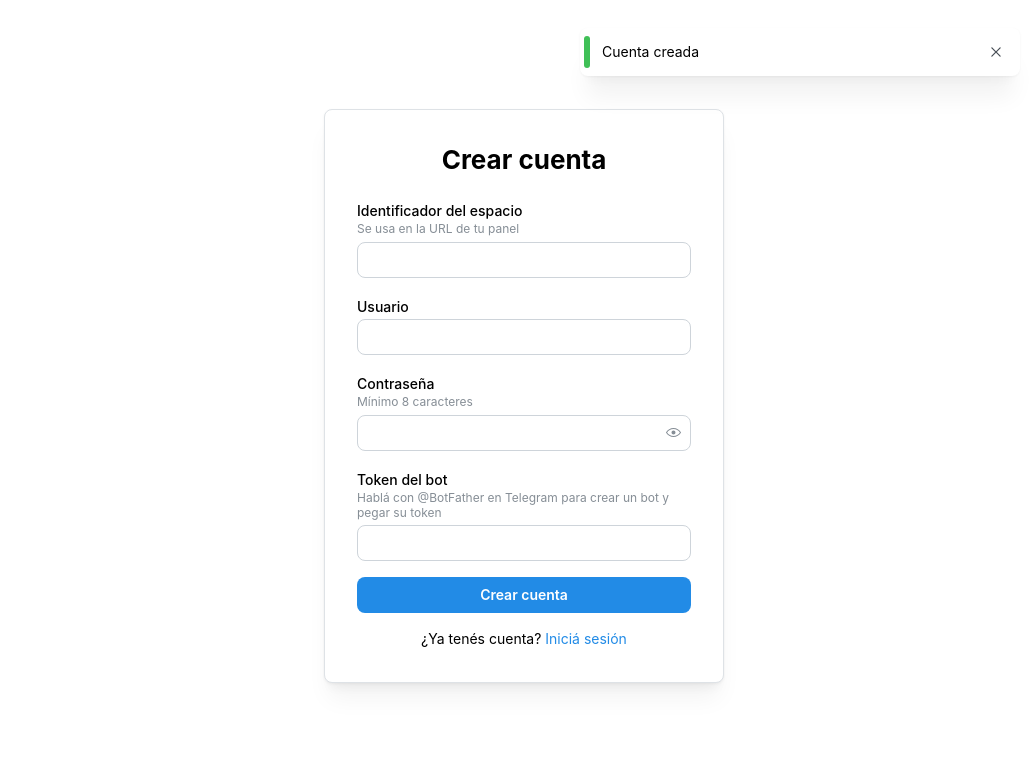
Test: SignupPage › auto-login fallido degrada a /login?username=&created=1
In the field labelled "Identificador del espacio": (524, 260) x1=357 y1=242 x2=691 y2=278, type "acme"
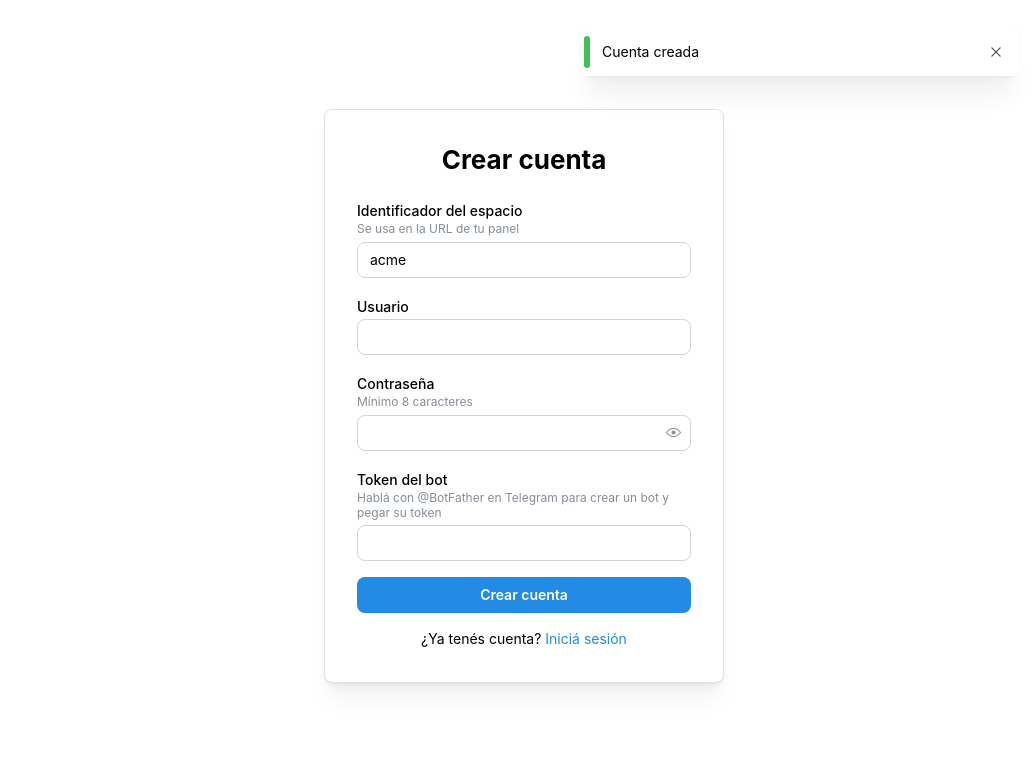
In the field labelled "Usuario": (524, 336) x1=357 y1=318 x2=691 y2=354, type "juan"
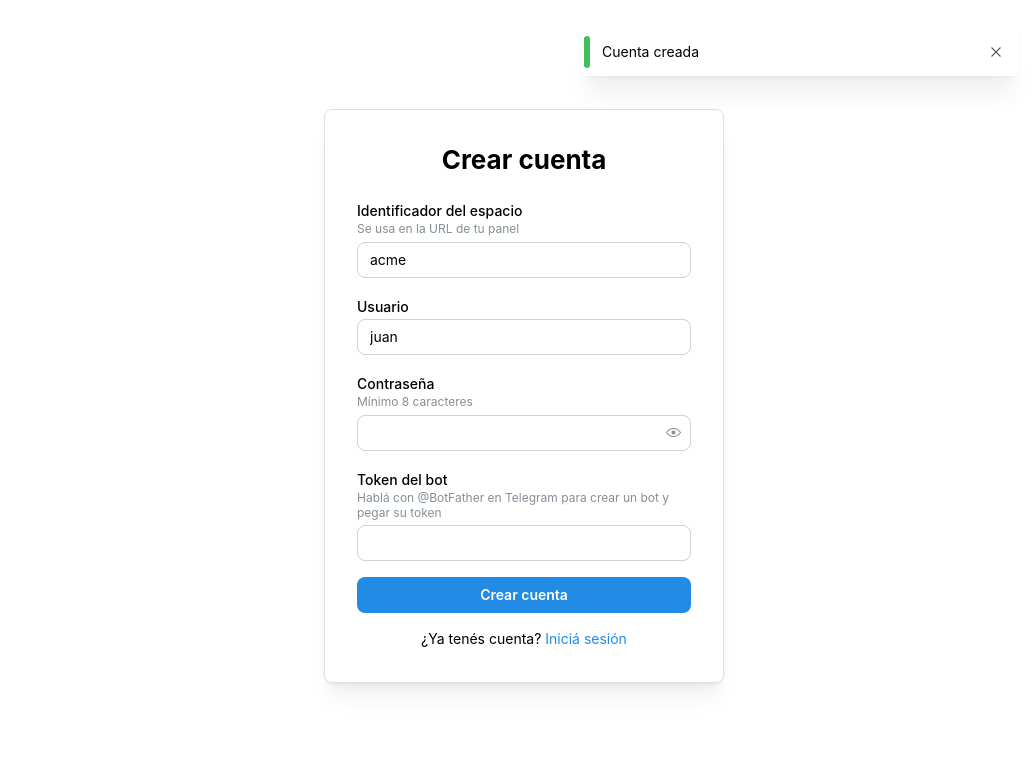
In the password field labelled "Contraseña": (524, 433) x1=358 y1=416 x2=690 y2=450, type "secreto123"
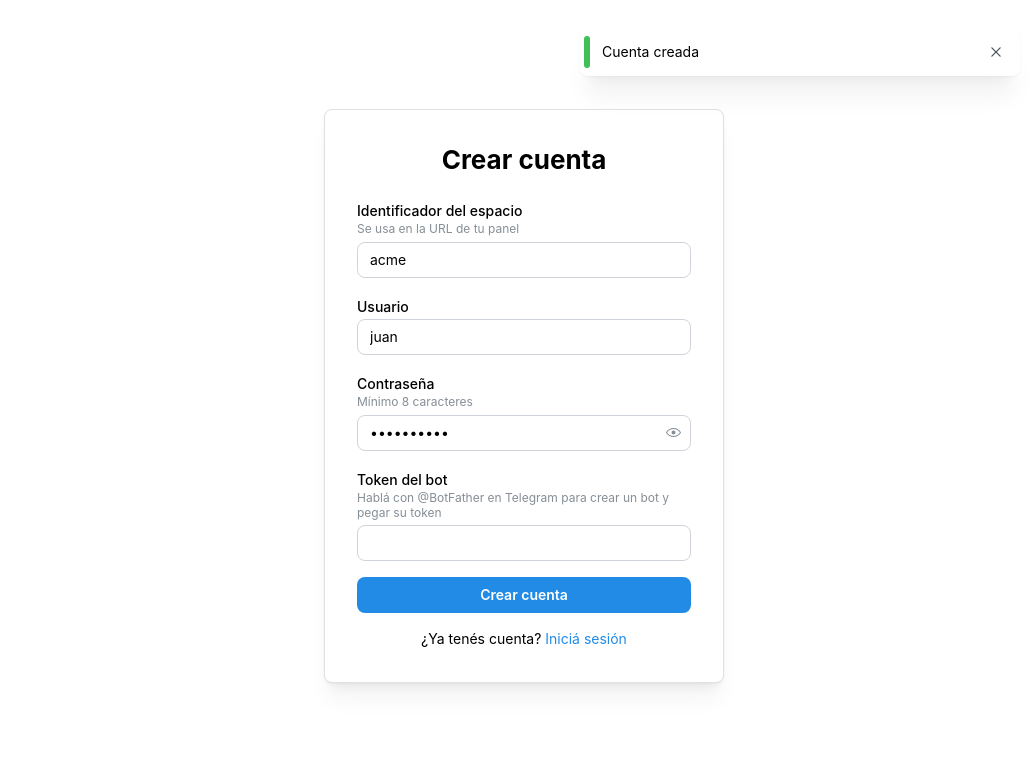
In the field labelled "Token del bot": (524, 543) x1=357 y1=525 x2=691 y2=561, type "SIGNUP_BOT_TOKEN_EXAMPLE"
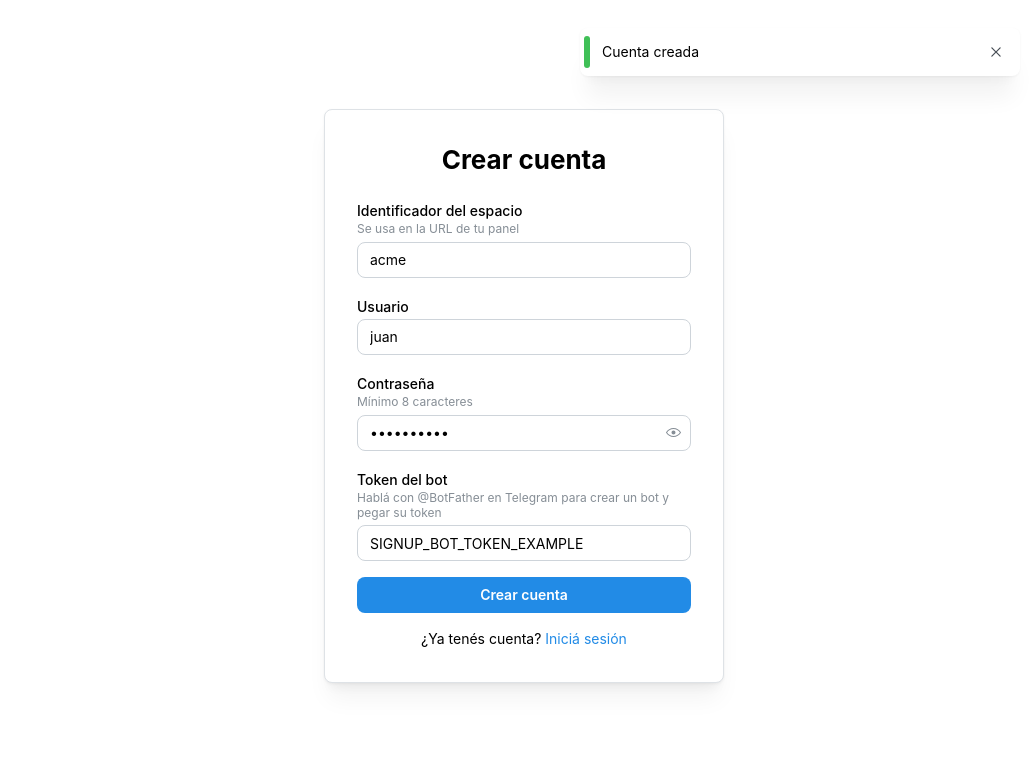
Click the button "Crear cuenta": (524, 595) x1=357 y1=577 x2=691 y2=613
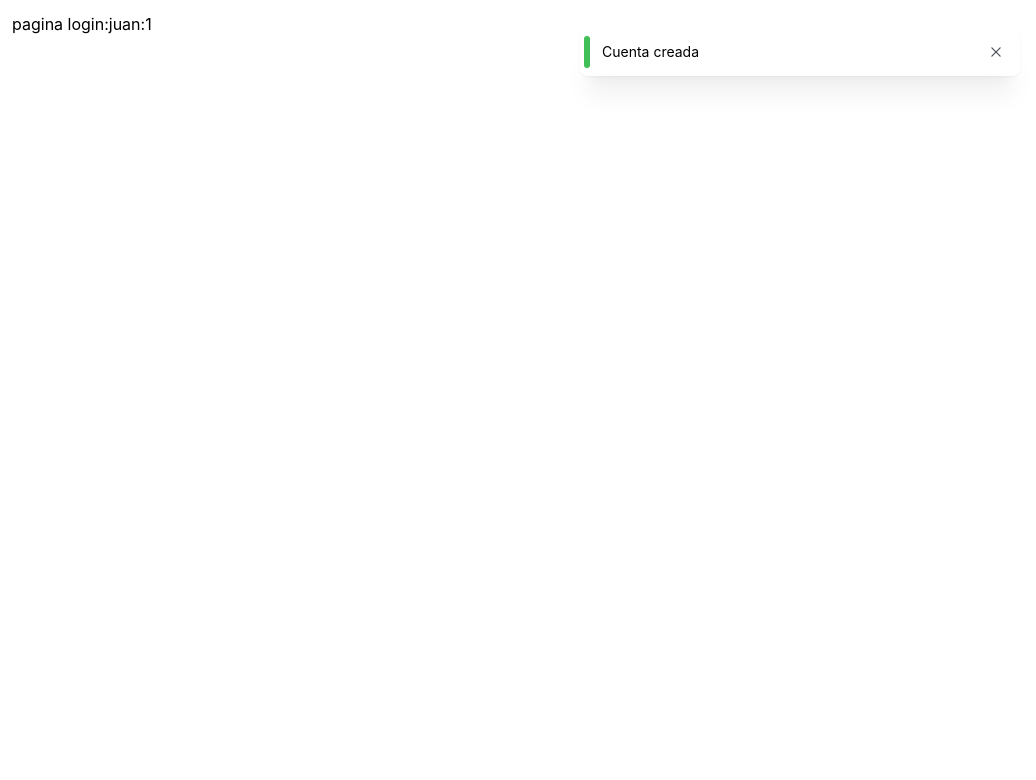
Expected: the field showing "SIGNUP_BOT_TOKEN_EXAMPLE" is not shown
Expected: the text "pagina login:juan:1" is shown, x1=12 y1=14 x2=152 y2=34
